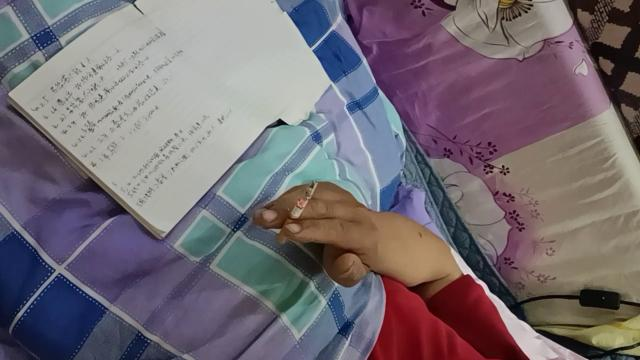Cigarette: (276, 180, 318, 244)
